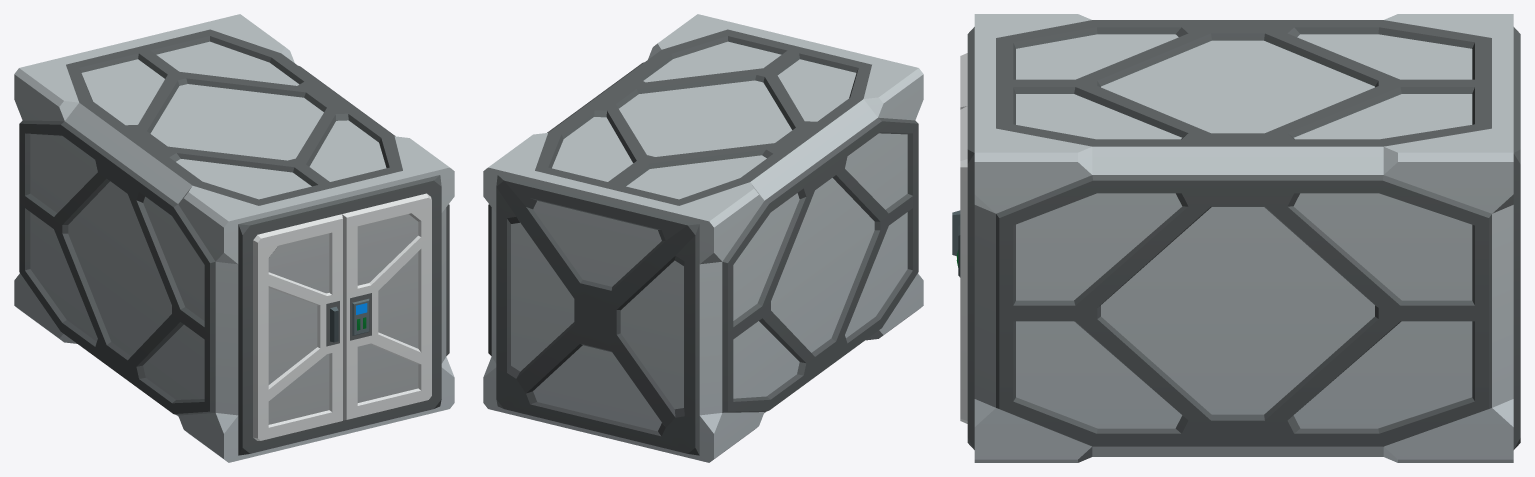
File: Container_type_B_002.glb
3 views of the same model, side by side, from view 1: azimuth 30°, elevation 25°; view 2: azimuth 150°, elevation 25°; view 3: azimuth 270°, elevation 25° (orthographic). The views are drawn at different scales.
Visible parts, largest first — view 1: Container_type_B_002, Container_type_B_door_001, Container_type_B_door_011; view 2: Container_type_B_002; view 3: Container_type_B_002, Container_type_B_door_011, Container_type_B_door_001.
Boxes of the visible parts, box(x1,y1,x2,y2) form: Container_type_B_002: box(14, 14, 454, 462); Container_type_B_door_001: box(253, 214, 342, 440); Container_type_B_door_011: box(342, 193, 431, 420); Container_type_B_002: box(483, 14, 923, 462); Container_type_B_002: box(967, 14, 1520, 462); Container_type_B_door_011: box(956, 106, 967, 423); Container_type_B_door_001: box(952, 53, 967, 256).
Size of the model in its own units: 2.49 by 2.4 by 3.98.
Materials: 2 (2 with a texture image).
